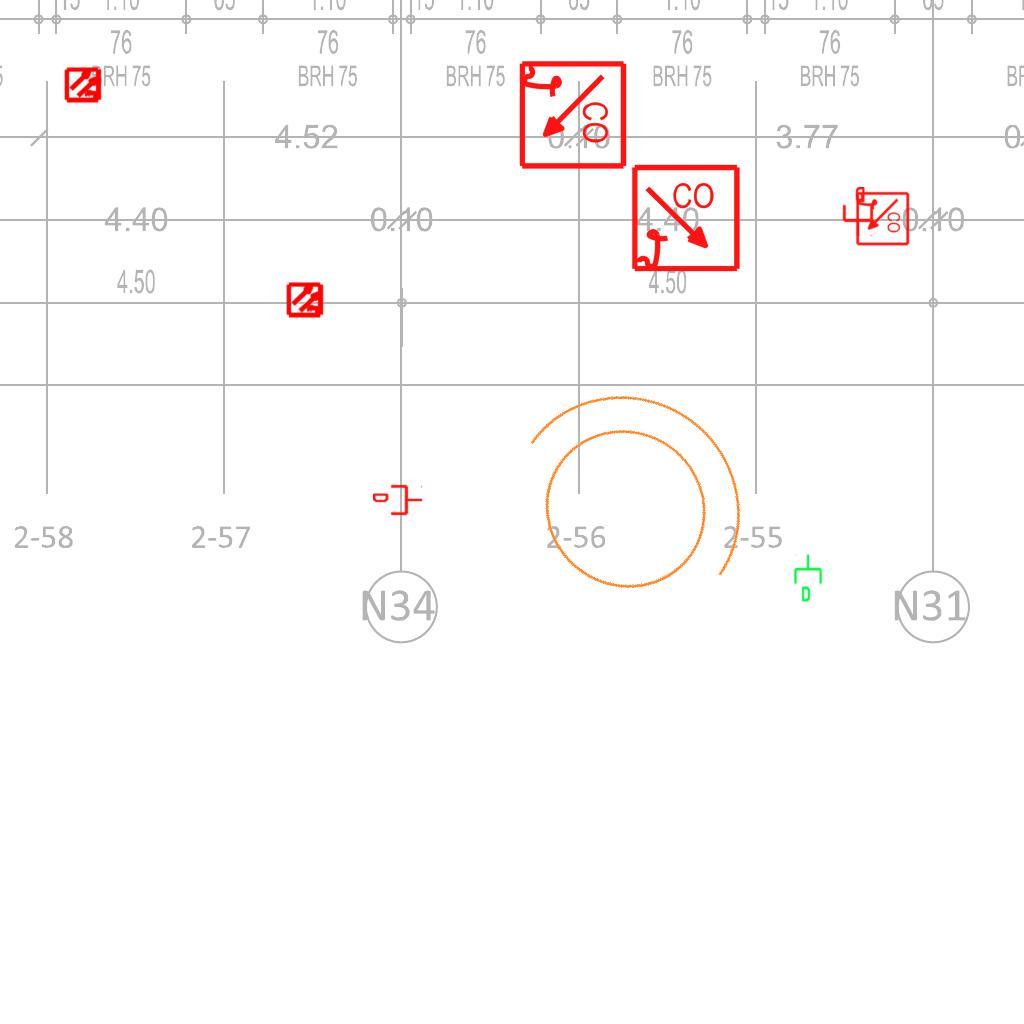Datenanschluss_einfach: (373, 483, 423, 517), (792, 553, 826, 603), (841, 187, 875, 237)
OT_Multisensormelder_(Kombination_RMO_WMD): (56, 57, 112, 113), (278, 272, 334, 328)
ROA_Rauchmelder_optisch_mit_Signalgeber_(Sockelsirene): (515, 59, 628, 172), (630, 163, 743, 276), (854, 191, 910, 247)
Scheinwerfer_fuer_Alarmbeleuchtung: (453, 329, 799, 666)
